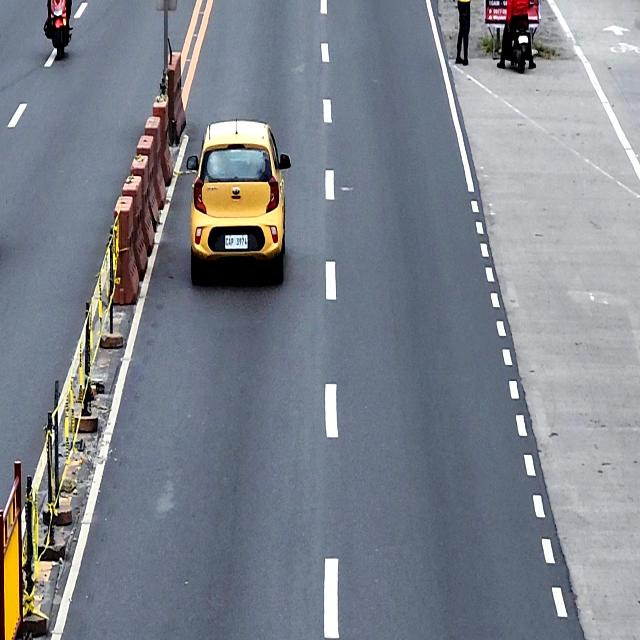Car: (186, 119, 291, 282)
License-Plate: (223, 231, 249, 251)
Motorcycle: (43, 0, 73, 60)
